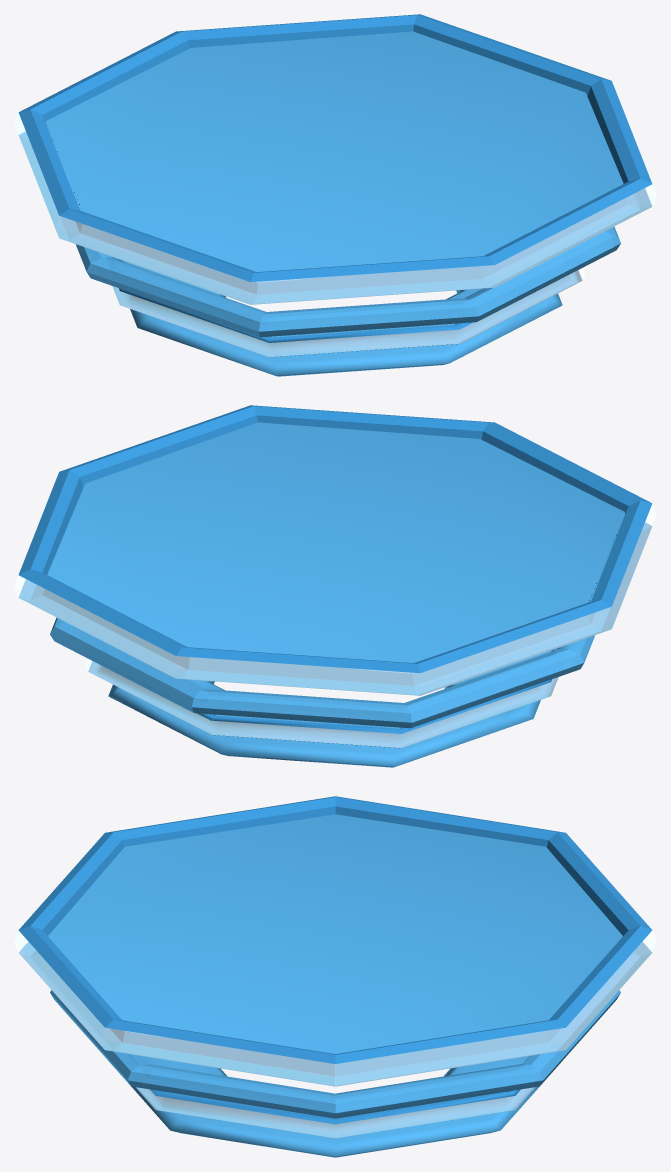
The picture shows the model from 3 angles, top to bottom: view 1: azimuth 30°, elevation 25°; view 2: azimuth 150°, elevation 25°; view 3: azimuth 270°, elevation 25°; orthographic projection.
Visible parts, largest first — view 1: arc1Base, arc1, arc2, arc5, arc3; view 2: arc1Base, arc1, arc2, arc5, arc3; view 3: arc1Base, arc1, arc2, arc5, arc3.
Boxes of the visible parts, left/top/right/bottom form: arc1Base: left=46, top=31, right=623, bottom=282; arc1: left=14, top=14, right=656, bottom=304; arc2: left=71, top=188, right=620, bottom=337; arc5: left=119, top=259, right=562, bottom=376; arc3: left=112, top=257, right=584, bottom=357; arc1Base: left=47, top=422, right=624, bottom=673; arc1: left=14, top=405, right=656, bottom=695; arc2: left=50, top=579, right=599, bottom=728; arc5: left=108, top=650, right=551, bottom=767; arc3: left=86, top=648, right=558, bottom=748; arc1Base: left=48, top=814, right=622, bottom=1053; arc1: left=14, top=796, right=656, bottom=1086; arc2: left=50, top=990, right=620, bottom=1118; arc5: left=112, top=1056, right=558, bottom=1157; arc3: left=135, top=1087, right=535, bottom=1138.
Size of what is drawn, in the model's own units: 259 by 64.16 by 259.
